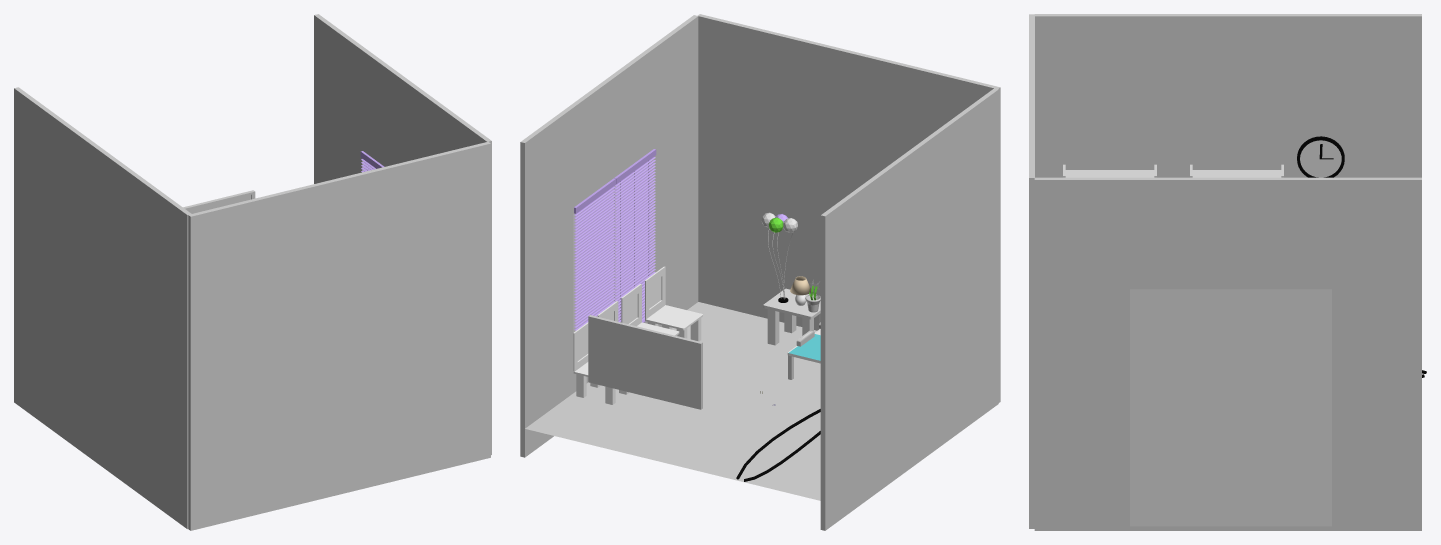
Rendered from hospital low poly.fbx.
3 views of the same model, side by side, from view 1: azimuth 30°, elevation 25°; view 2: azimuth 150°, elevation 25°; view 3: azimuth 270°, elevation 25° (orthographic). The views are drawn at different scales.
Visible parts, largest first — view 1: Plane.003, Plane.001, Plane.002; view 2: Plane.001, Plane.003, Plane.002, Plane, Cube.021, Venetian_slats, Venetian_slats.001, Cube.019, Cube.024, Cube.037, Cube.030, Cube.018; view 3: Plane.002, Plane.001, Cube.019, Plane.003, Plane.004, Shelves1, Shelves1.001, Plane.005.
Part boxes in pixels (x1,y1,x2,y2): Plane.003: (188,141,490,530); Plane.001: (14,87,191,529); Plane.002: (314,14,491,454); Plane.001: (820,88,998,530); Plane.003: (697,14,1000,402); Plane.002: (520,15,698,457); Plane: (525,302,820,500); Cube.021: (588,315,702,409); Venetian_slats: (614,157,655,321); Venetian_slats.001: (574,186,615,330); Cube.019: (573,163,648,370); Cube.024: (645,266,702,341); Cube.037: (573,322,629,404); Cube.030: (621,284,679,335); Cube.018: (763,288,820,319); Plane.002: (1034,177,1421,530); Plane.001: (1035,14,1421,177); Cube.019: (1130,289,1331,526); Plane.003: (1029,14,1034,528); Plane.004: (1300,140,1341,177); Shelves1: (1063,164,1156,177); Shelves1.001: (1190,164,1283,177); Plane.005: (1297,136,1344,177).
Size of the model in its own units: 1644 by 1620 by 1664.
